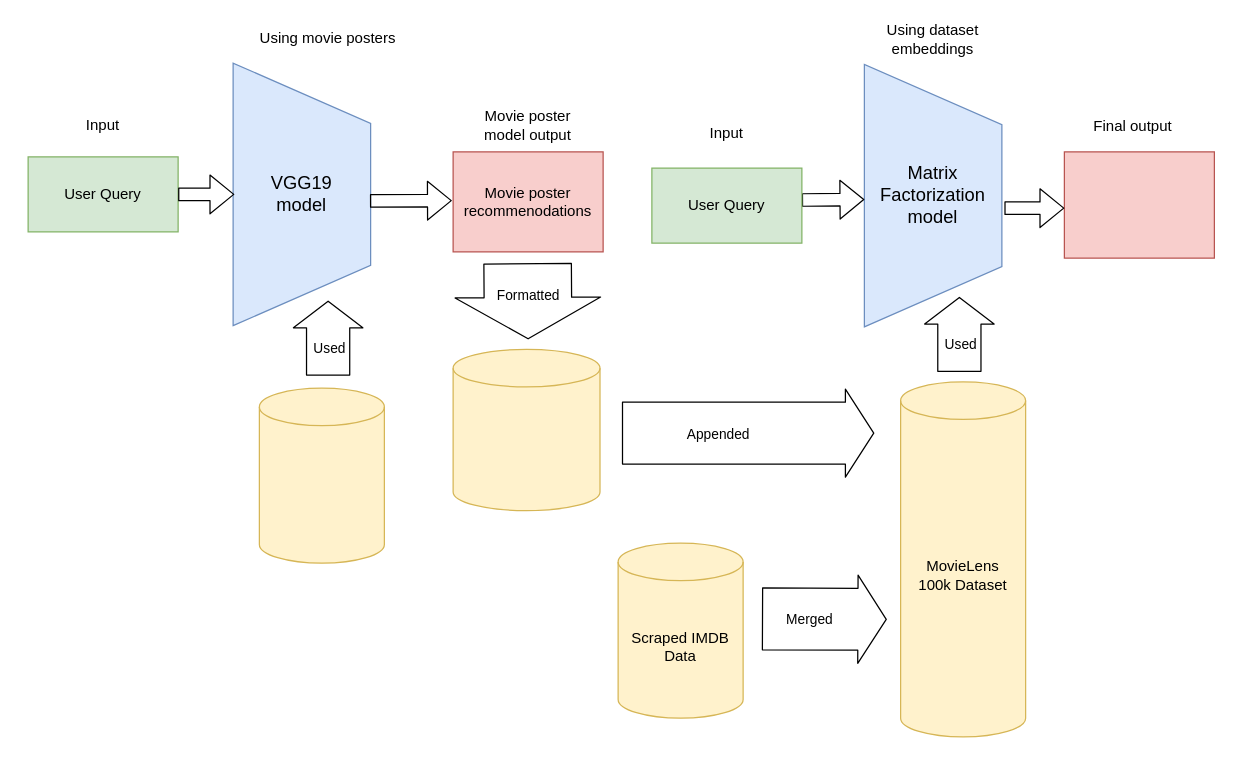
Some shapes in this 1236 by 759 pixel diagram are drawn without their labels. Here are the shapes that lost their labels. From the top down, the centre of each, then its label:
At [1138,204]: "Top Recommended Movies".
At [526,429]: "Additional ratings for input user data".
At [321,475]: "MovieLens Posters Dataset".
